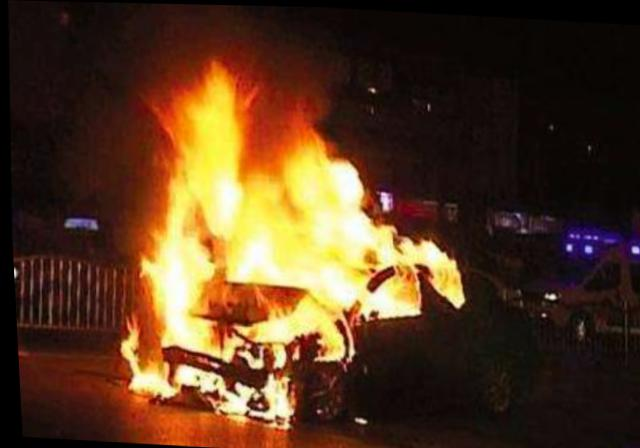fire: (103, 58, 474, 432)
